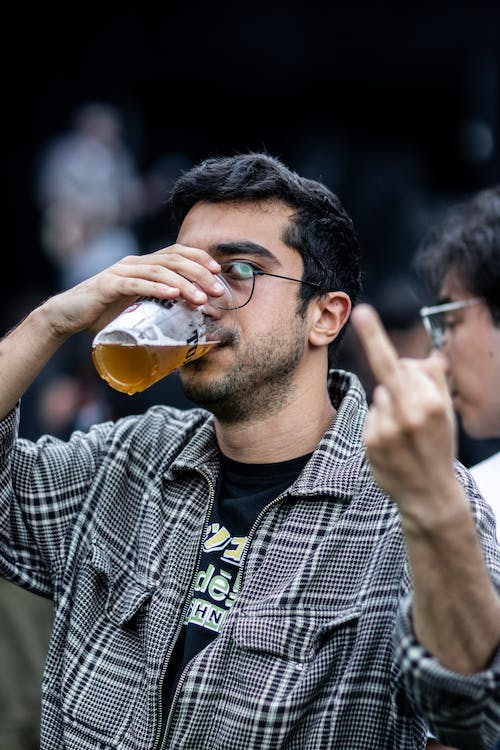alcohol: (88, 269, 239, 397)
insulting_gesture: (346, 298, 470, 505)
